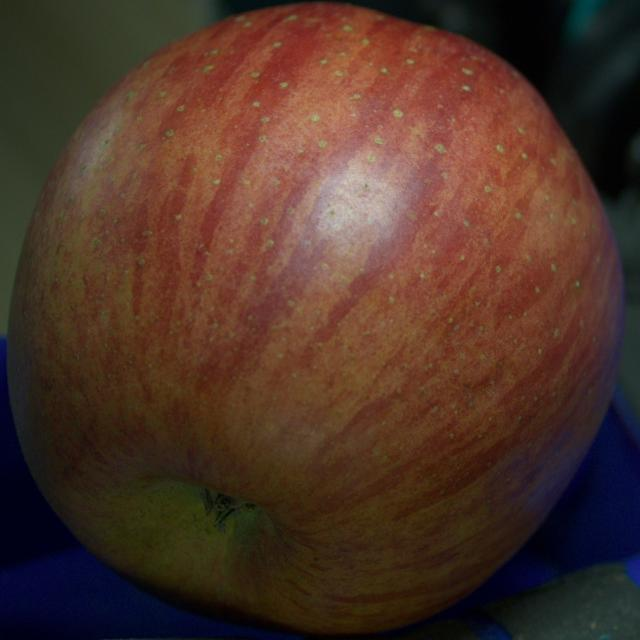apple: (7, 3, 622, 634)
